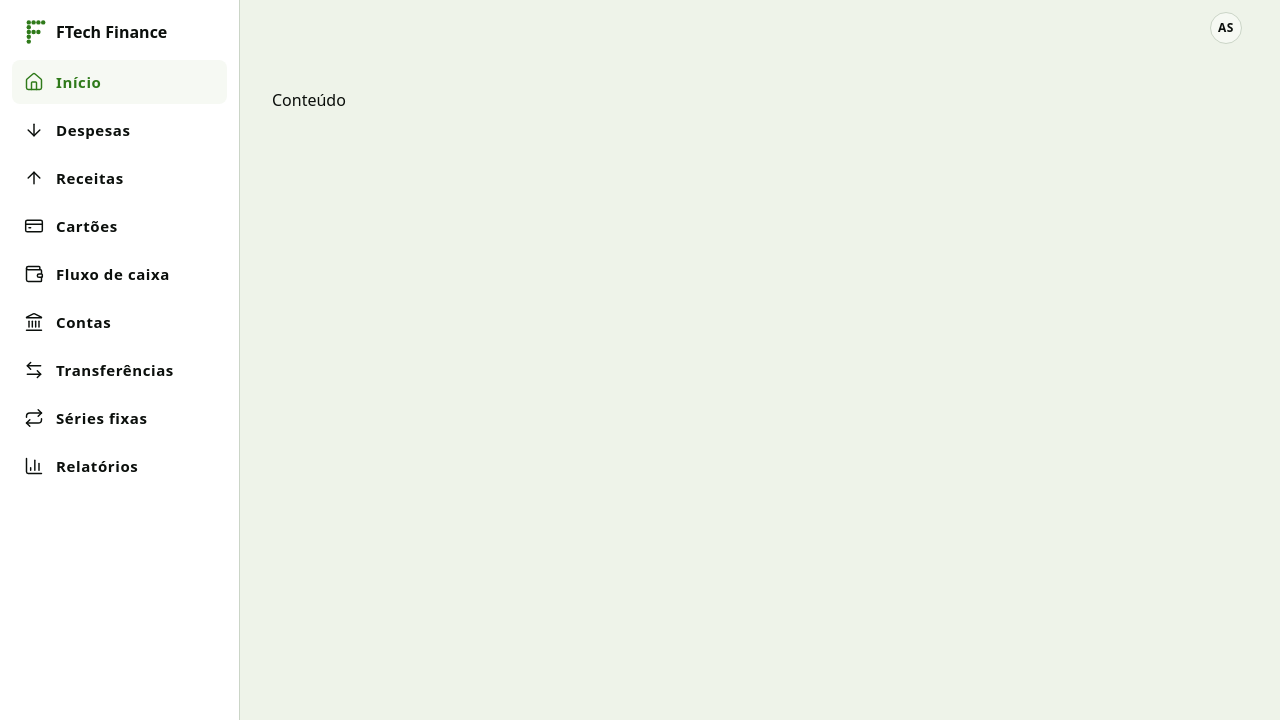
Scenario: AppShell (spec 0006) › shows the user initials and opens a menu with name, email and profile in pt-BR
This screenshot has width=1280, height=720.
Expected: the text "ana@example.com" is not shown
Click the button with aria-label "Menu do usuário" at [1226, 28], box [1204,6,1248,50]
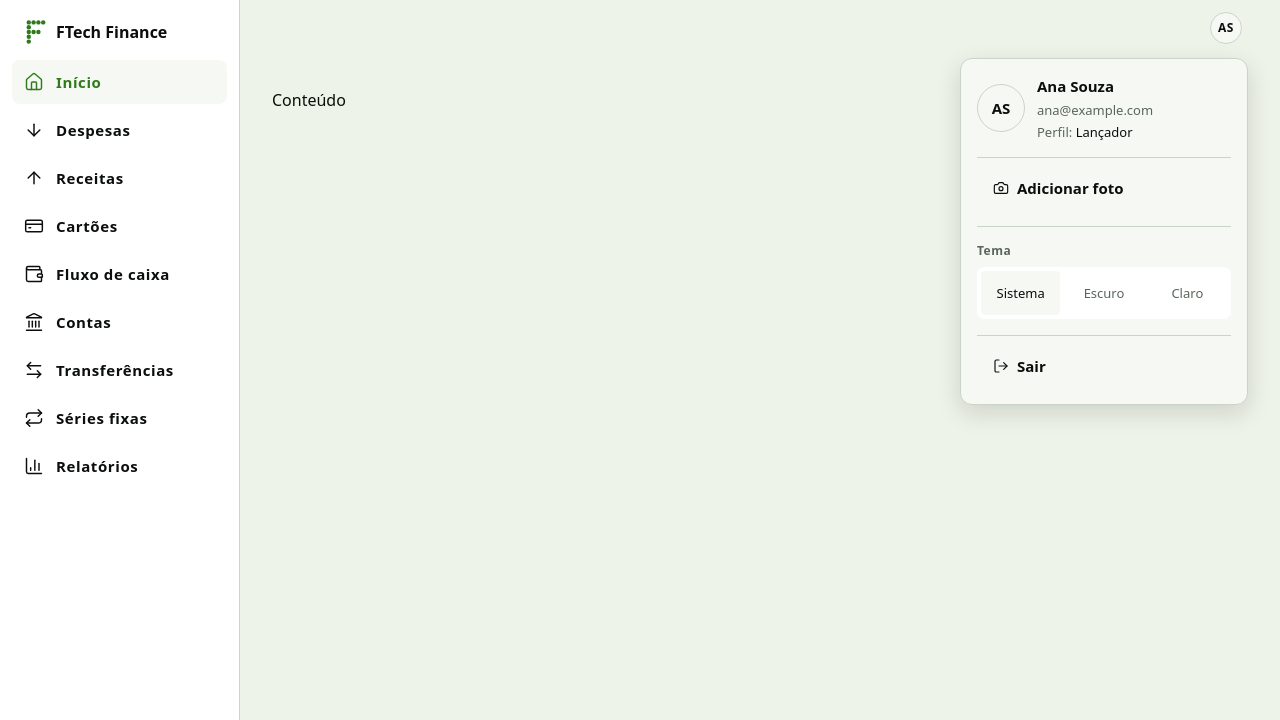
Result: the text "Ana Souza" is shown at [1037,76,1114,96]
Result: the text "ana@example.com" is shown at [1037,101,1153,119]
Result: the text "Lançador" is shown at [1076,123,1132,141]
Click the button with aria-label "Menu do usuário" at [1226, 28], box [1204,6,1248,50]
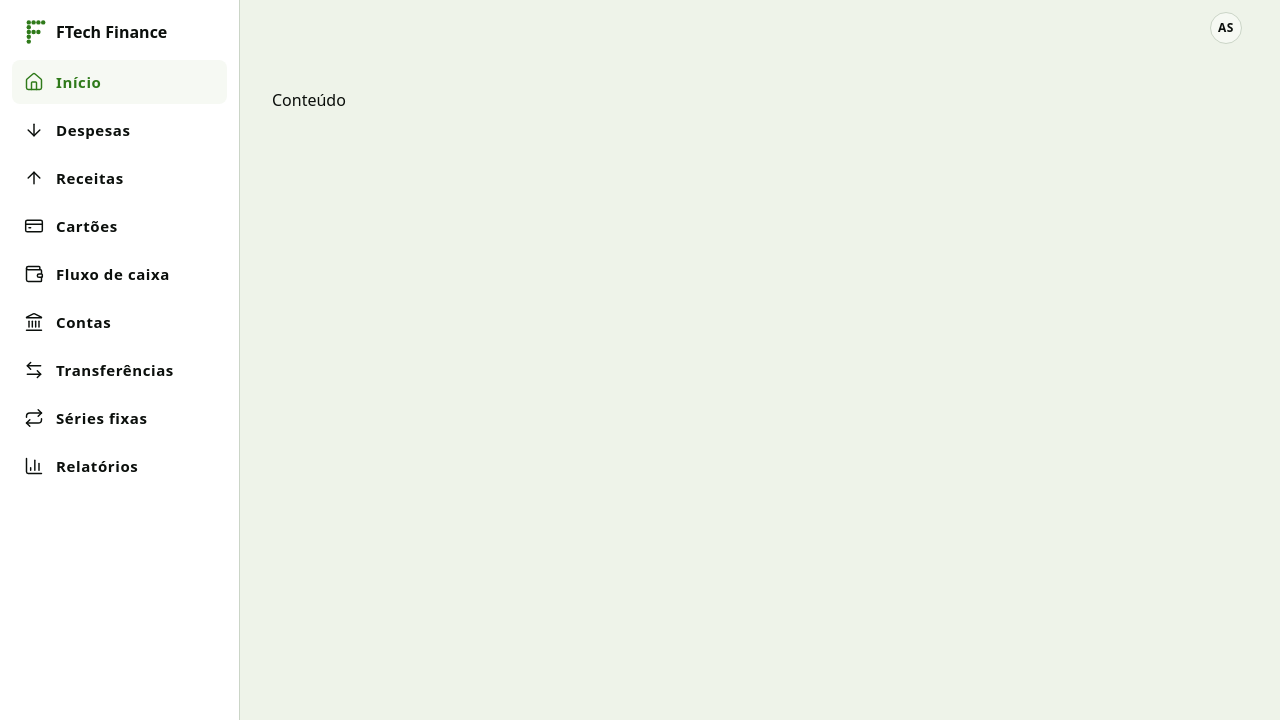
Result: the text "ana@example.com" is gone
